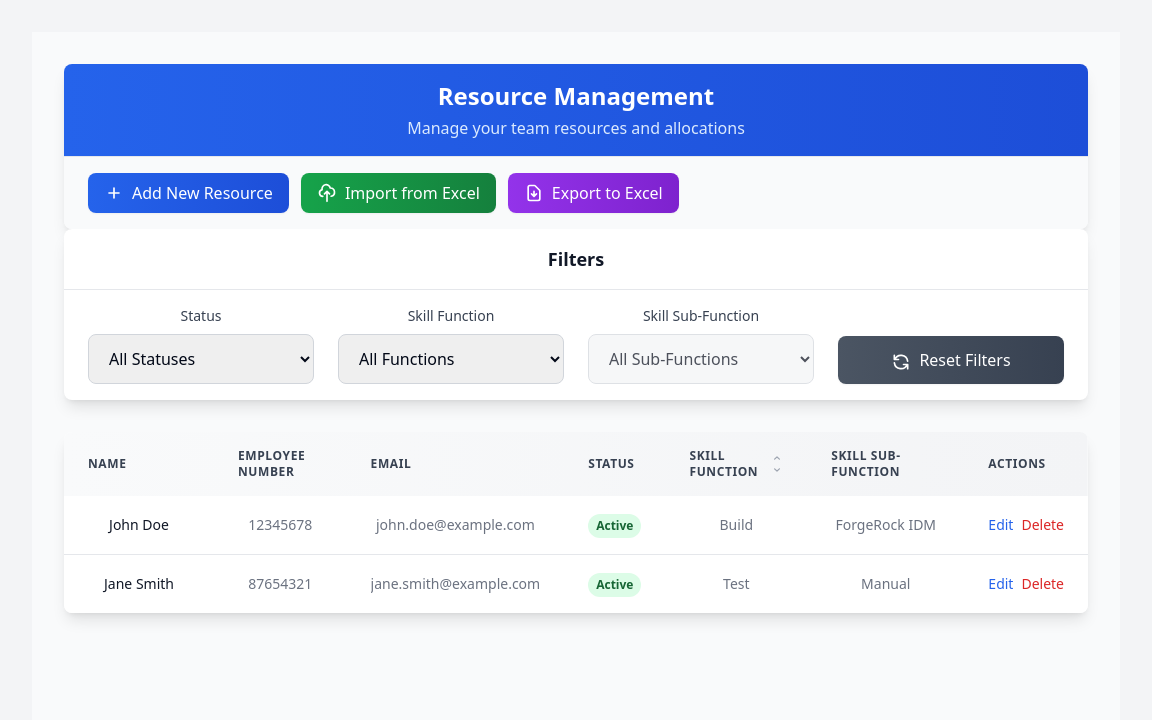
it: ResourceListPage › Excel Import/Export › should show import dialog when import button is clicked
Click the button "Import from Excel": point(398, 193) x1=301 y1=173 x2=496 y2=213
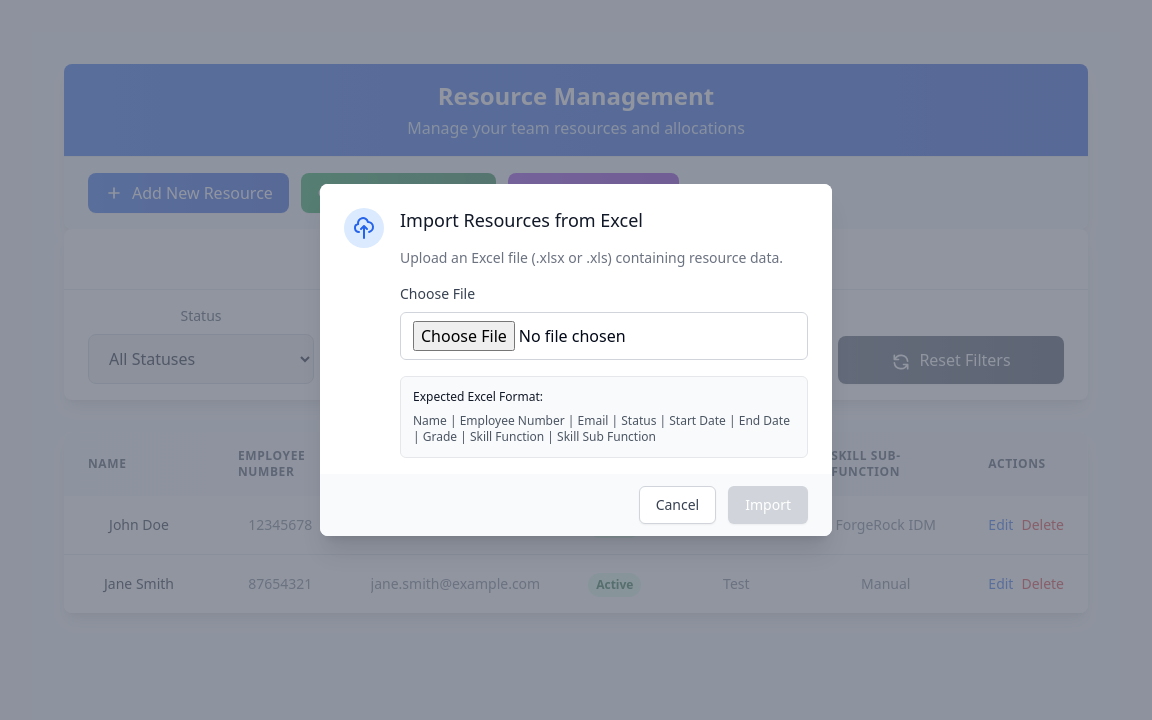
Result: the heading "Import Resources from Excel" is shown at x1=400 y1=208 x2=643 y2=232
Result: the file field labelled "Choose File" is shown at x1=400 y1=312 x2=808 y2=360
